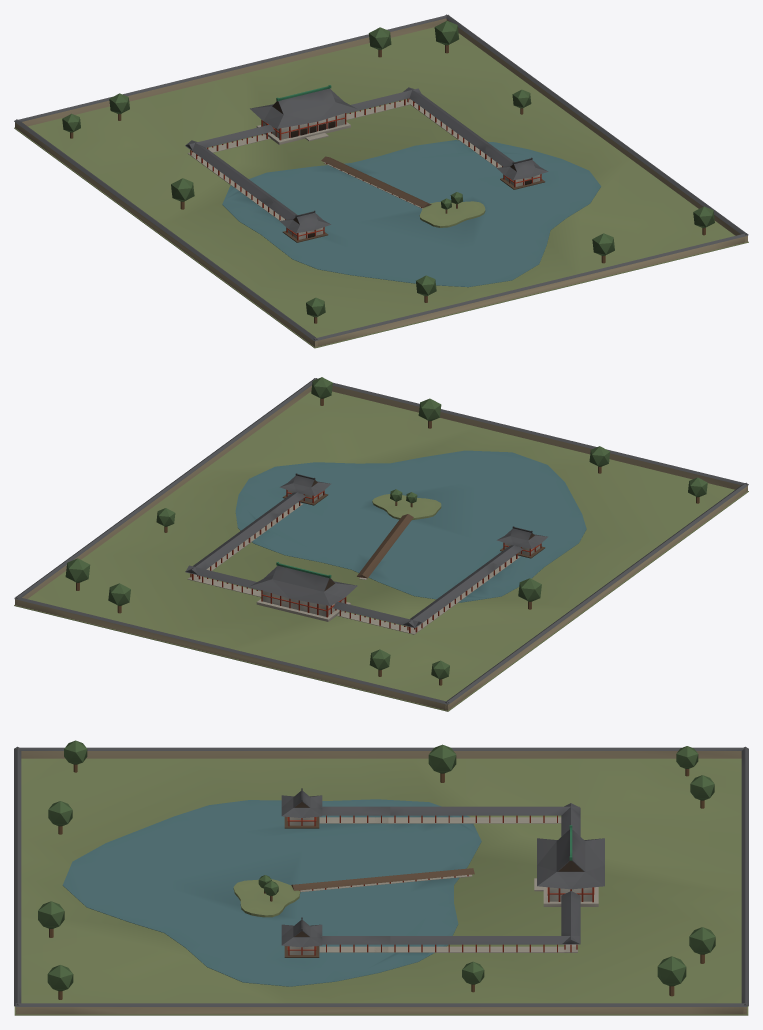
Rendered from shinsen-en.glb.
The picture shows the model from 3 angles, top to bottom: view 1: azimuth 30°, elevation 25°; view 2: azimuth 150°, elevation 25°; view 3: azimuth 270°, elevation 25°; orthographic projection. The views are drawn at different scales.
Visible parts, largest first — view 1: p0_grounds, p1_halls, p2_roofs; view 2: p0_grounds, p1_halls, p2_roofs; view 3: p0_grounds, p1_halls, p2_roofs.
Boxes of the visible parts, left/top/right/bottom form: p0_grounds: left=14, top=14, right=748, bottom=348; p1_halls: left=62, top=21, right=714, bottom=323; p2_roofs: left=250, top=85, right=548, bottom=233; p0_grounds: left=14, top=378, right=748, bottom=711; p1_halls: left=65, top=377, right=707, bottom=685; p2_roofs: left=250, top=473, right=548, bottom=605; p0_grounds: left=14, top=746, right=748, bottom=1015; p1_halls: left=38, top=740, right=715, bottom=999; p2_roofs: left=281, top=788, right=604, bottom=947.
Bounding box in the file's own units: 200 × 16.25 × 240.
